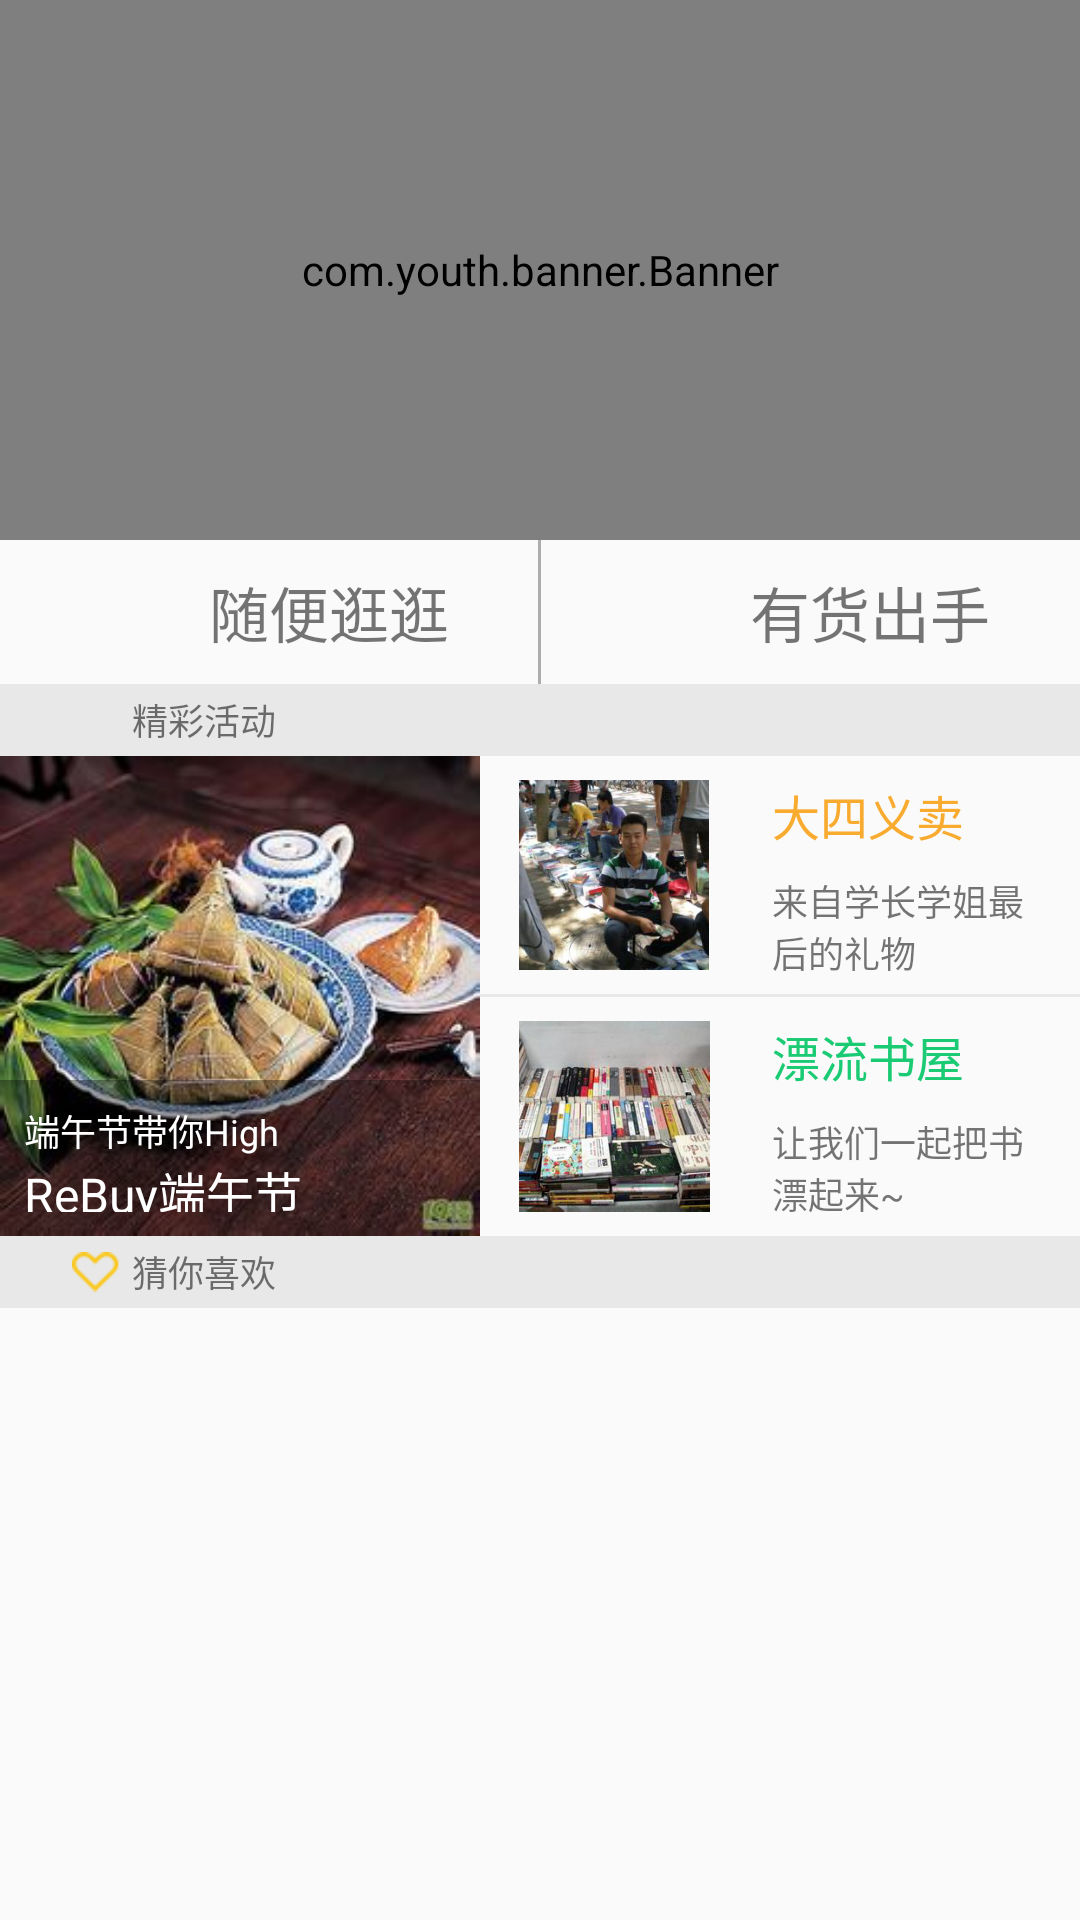

Icon bounding boxes for this 1080w x 1920h phone screenshot, format (x1, y1, x2, y2):
act charity sale: (519, 780, 709, 970)
act drifting bookstore: (519, 1021, 710, 1212)
